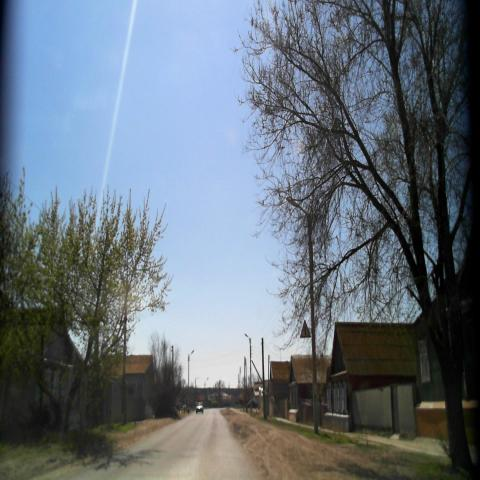2_3_3: (300, 320, 311, 338)
